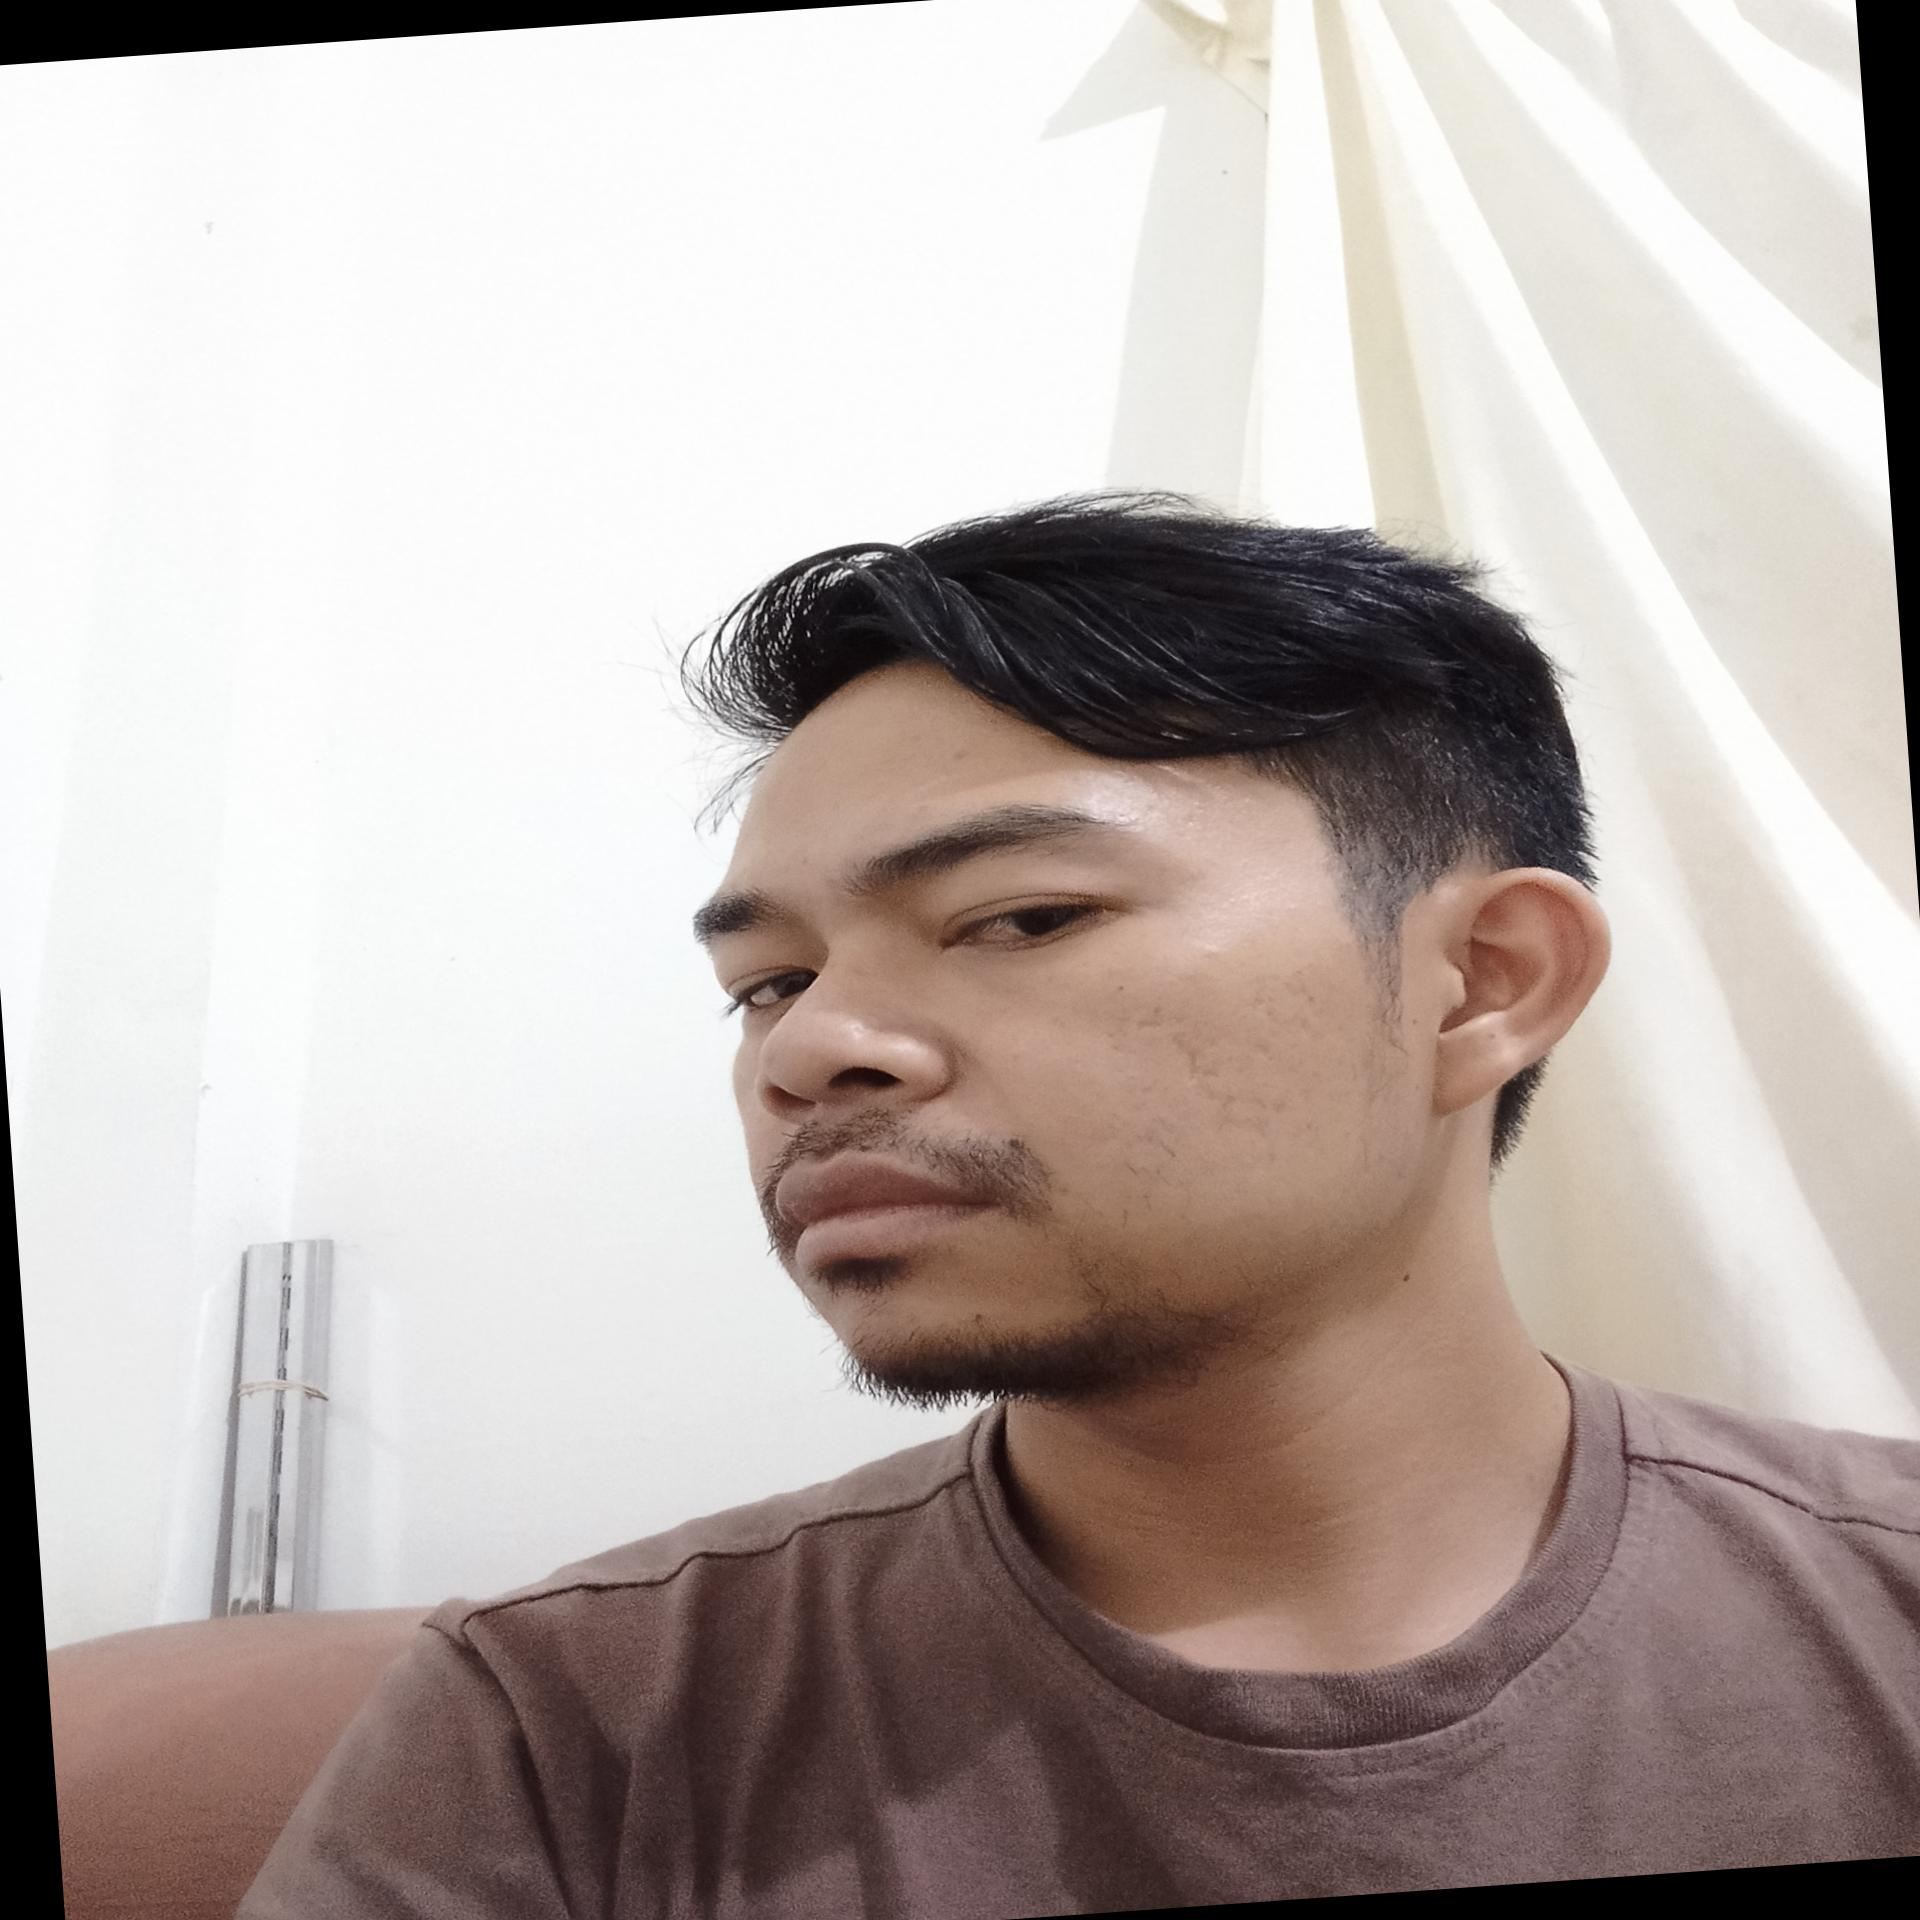Acne: (1167, 1027, 1227, 1102), (1245, 965, 1312, 997), (1213, 1109, 1278, 1138), (1134, 1004, 1167, 1027), (951, 747, 976, 765)
